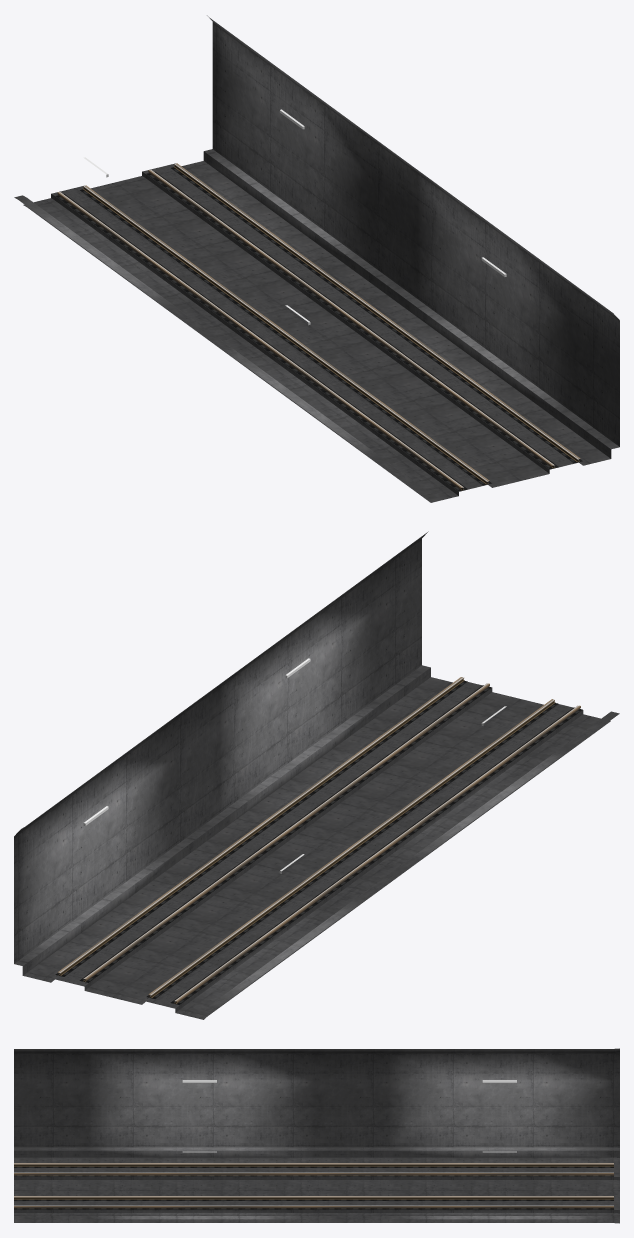
The model's file is SIN_2RAIL_CHIKA_100.glb.
3 renders of one model, top to bottom at view 1: azimuth 30°, elevation 25°; view 2: azimuth 150°, elevation 25°; view 3: azimuth 270°, elevation 25°, orthographic. The views are drawn at different scales.
Visible parts, largest first — view 1: RAIL3, RG_R, RG_L; view 2: RAIL3, RG_R, RG_L; view 3: RAIL3, RG_L, RG_R.
Part boxes in pixels (<box>): RAIL3: <box>14,15,619,502</box>; RG_R: <box>57,170,552,489</box>; RG_L: <box>85,163,580,481</box>; RAIL3: <box>14,531,619,1019</box>; RG_R: <box>84,683,580,1003</box>; RG_L: <box>57,677,553,996</box>; RAIL3: <box>14,1048,619,1223</box>; RG_L: <box>14,1173,613,1207</box>; RG_R: <box>14,1163,613,1196</box>.
Size of the model in its own units: 28.41 by 20 by 101.
Materials: 11 (10 with a texture image).
